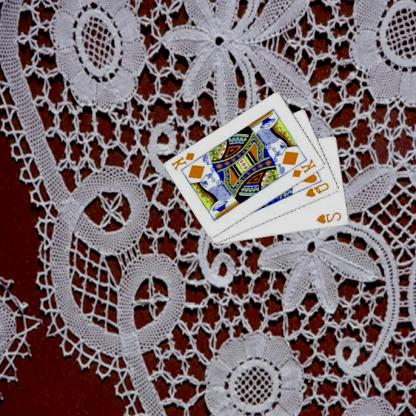2H: (315, 209, 344, 225)
KD: (291, 156, 320, 179), (170, 150, 198, 172)
QH: (305, 180, 332, 198)
